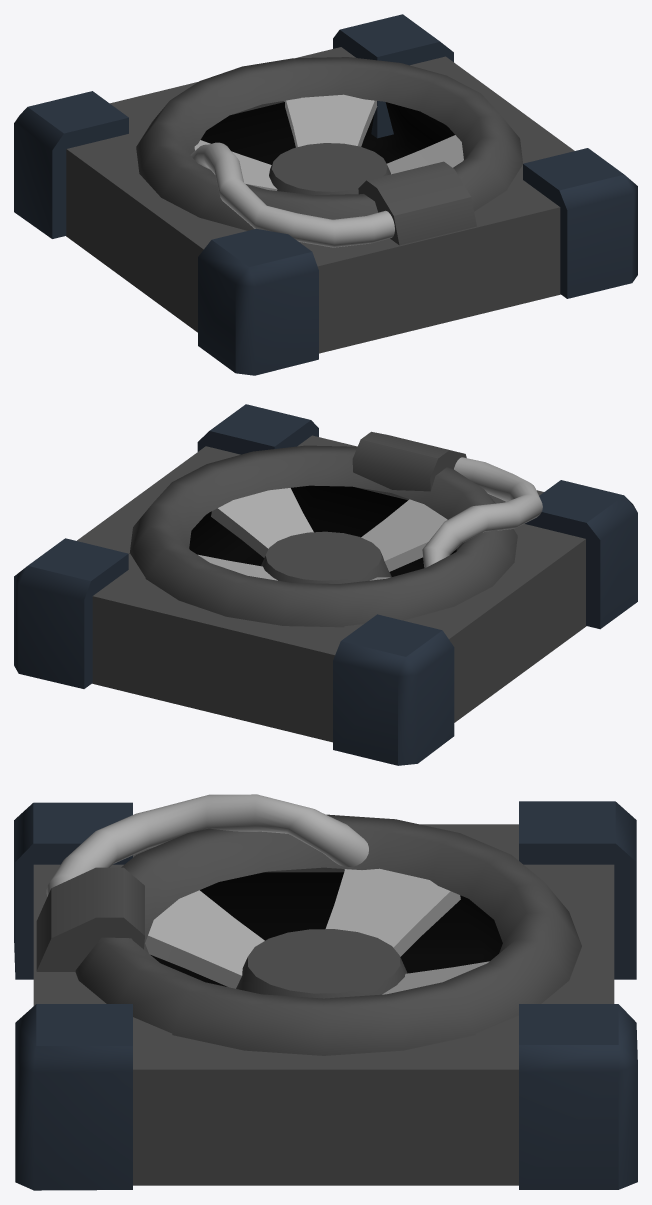
The model's file is dmulholland_Fan1_3D.fbx.
3 renders of one model, top to bottom at view 1: azimuth 30°, elevation 25°; view 2: azimuth 150°, elevation 25°; view 3: azimuth 270°, elevation 25°, orthographic. The views are drawn at different scales.
Parts seen in each view (by area): view 1: pCube1, pCylinder1, pCube10, pCube7, pCube9, pPlane1, pTorus1, pCube6, pCylinder2, pCube8, pCube3, pCube5 (+1 smaller); view 2: pCube1, pCylinder1, pCube9, pCube8, pCube10, pPlane1, pCylinder2, pTorus1, pCube6, pCube5, pCube7, pCube4 (+1 smaller); view 3: pCube1, pCylinder1, pCube8, pCube7, pPlane1, pTorus1, pCube9, pCylinder2, pCube6, pCube10, pCube2, pCube4 (+1 smaller).
Boxes of the visible parts, x1=… form: pCube1: x1=66, y1=47, x2=574, y2=353; pCylinder1: x1=136, y1=57, x2=522, y2=230; pCube10: x1=198, y1=228, x2=318, y2=375; pCube7: x1=523, y1=148, x2=637, y2=298; pCube9: x1=14, y1=91, x2=128, y2=238; pPlane1: x1=200, y1=102, x2=454, y2=164; pTorus1: x1=190, y1=142, x2=394, y2=247; pCube6: x1=358, y1=161, x2=476, y2=245; pCylinder2: x1=269, y1=143, x2=390, y2=195; pCube8: x1=333, y1=14, x2=453, y2=138; pCube3: x1=284, y1=94, x2=377, y2=147; pCube5: x1=387, y1=135, x2=463, y2=174; pCube1: x1=77, y1=435, x2=586, y2=742; pCylinder1: x1=129, y1=445, x2=517, y2=627; pCube9: x1=333, y1=614, x2=454, y2=765; pCube8: x1=14, y1=538, x2=128, y2=688; pCube10: x1=524, y1=480, x2=637, y2=629; pPlane1: x1=189, y1=485, x2=456, y2=576; pCylinder2: x1=261, y1=531, x2=391, y2=583; pTorus1: x1=422, y1=457, x2=542, y2=567; pCube6: x1=352, y1=431, x2=466, y2=500; pCube5: x1=207, y1=488, x2=313, y2=557; pCube7: x1=197, y1=404, x2=318, y2=454; pCube4: x1=361, y1=499, x2=447, y2=571; pCube1: x1=33, y1=824, x2=614, y2=1185; pCylinder1: x1=75, y1=814, x2=581, y2=1055; pCube8: x1=519, y1=1004, x2=637, y2=1189; pCube7: x1=15, y1=1004, x2=132, y2=1190; pPlane1: x1=151, y1=872, x2=502, y2=986; pTorus1: x1=46, y1=794, x2=368, y2=896; pCube9: x1=519, y1=801, x2=636, y2=979; pCylinder2: x1=236, y1=929, x2=407, y2=998; pCube6: x1=36, y1=867, x2=144, y2=971; pCube10: x1=14, y1=802, x2=132, y2=979; pCube2: x1=325, y1=868, x2=460, y2=956; pCube4: x1=145, y1=890, x2=264, y2=988.
Size of the model in its own units: 6.61 by 2.18 by 6.68.
